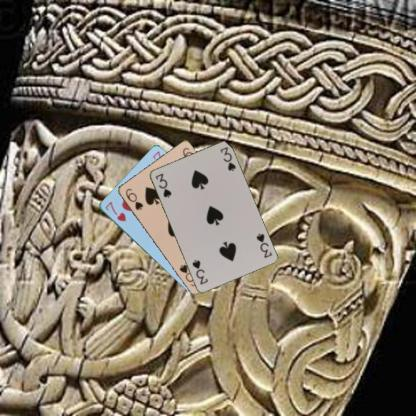3s: (153, 170, 172, 199), (254, 230, 273, 259)
6s: (122, 186, 145, 212)
7h: (102, 199, 127, 222)
